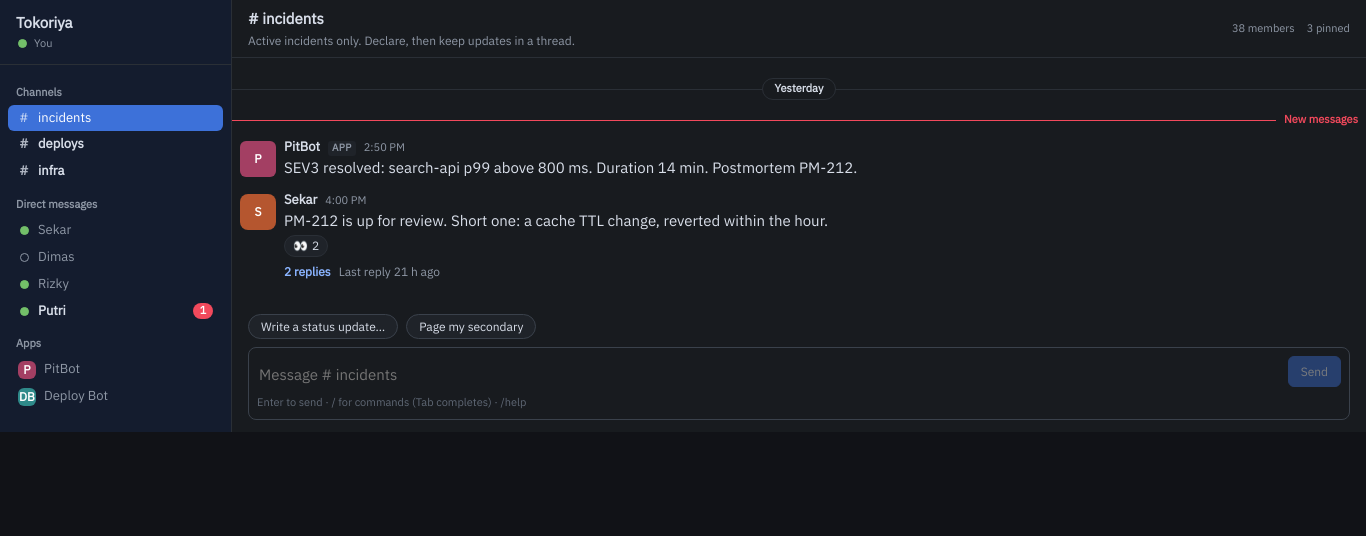
ChatApp › posts what you type, with Enter to send
Step 1. Type "on it" into the text box labelled "Message # incidents" → (768, 374), box x1=257 y1=362 x2=1280 y2=387
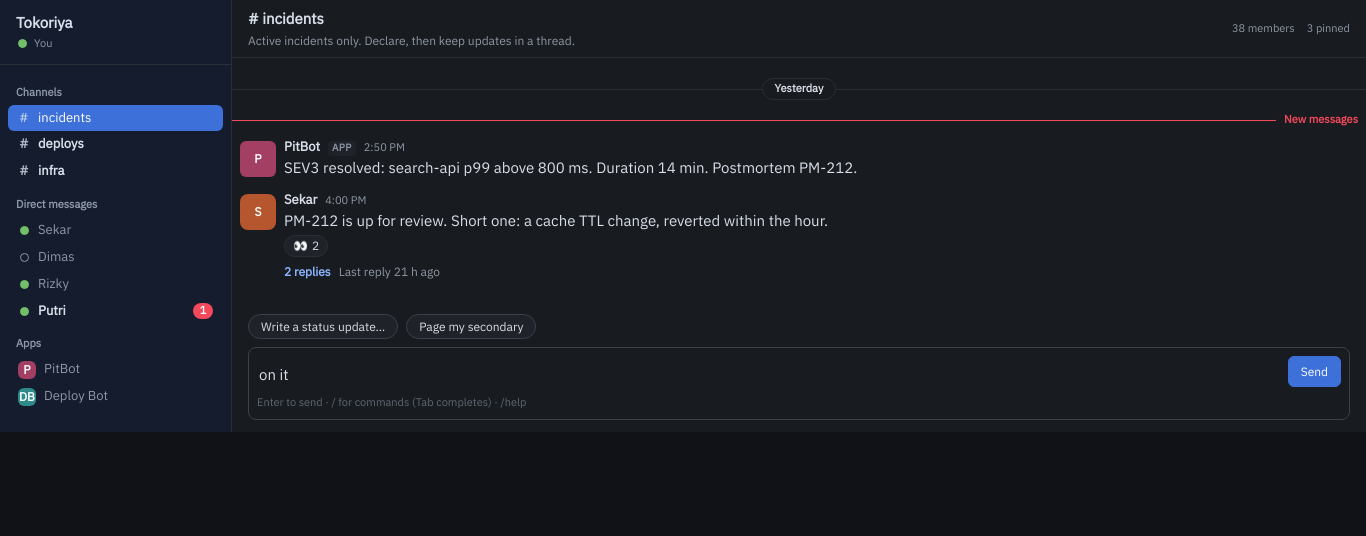
Step 2. Press Enter in the text box named "Message # incidents", box x1=257 y1=362 x2=1280 y2=387
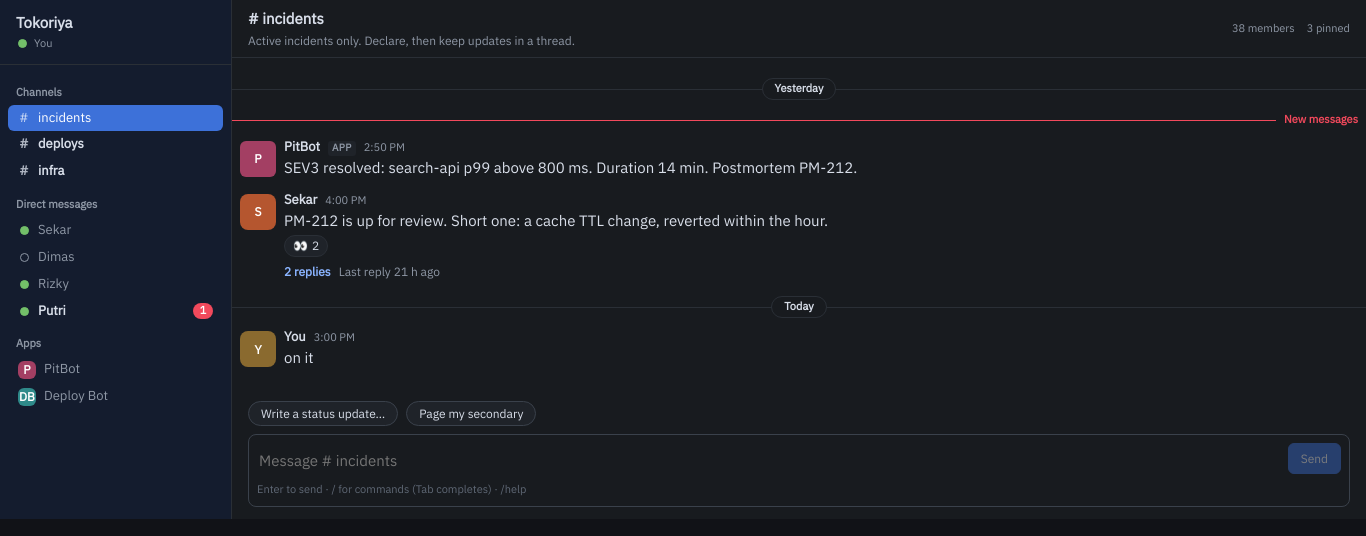
Expected: the text "You" is shown, x1=18 y1=36 x2=52 y2=50
Expected: the text "on it" is shown, x1=284 y1=348 x2=314 y2=367
Expected: the text box labelled "Message # incidents" is empty, x1=257 y1=448 x2=1280 y2=474
